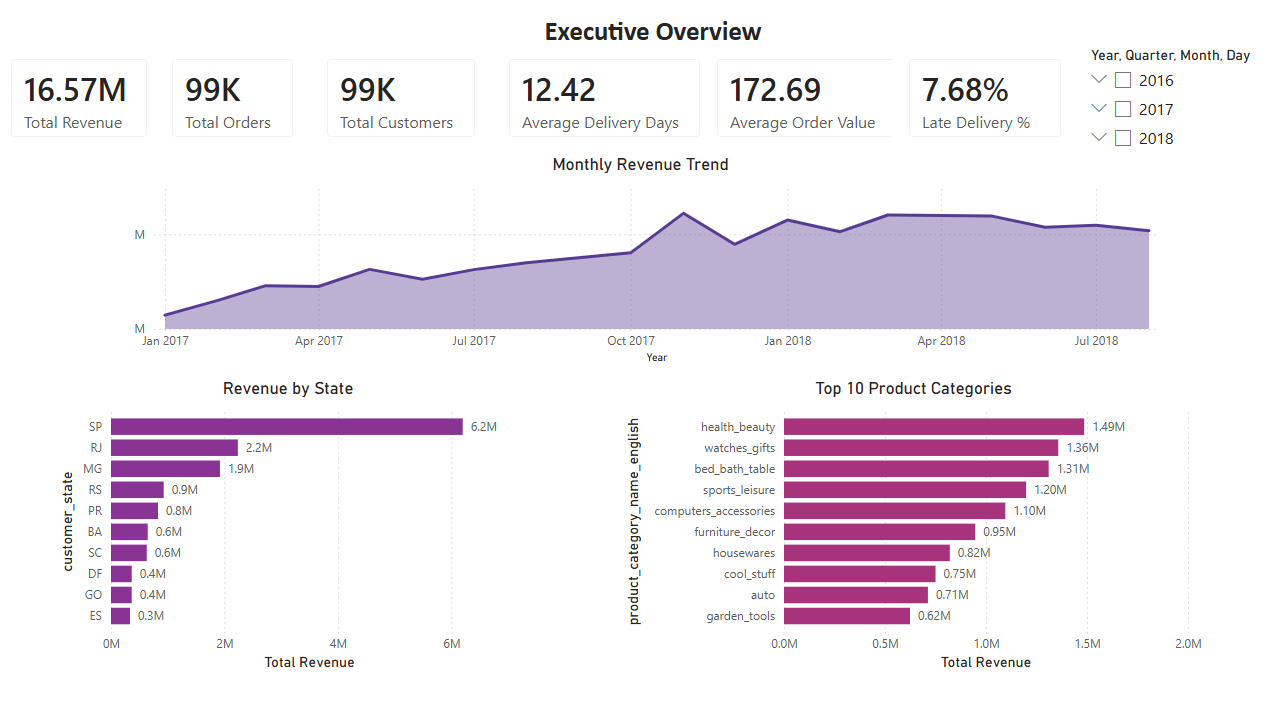

What the dashboard file says about the page in this screenshot:
{"tool":"powerbi","page":{"name":"Executive Overview","canvas":[1280,720],"ordinal":0},"visuals":[{"type":"cardVisual","fields":{"Data":["gold_sales_fact.Total Revenue"]},"box":[0,43.8,170.2,111.9],"z":0},{"type":"cardVisual","fields":{"Data":["gold_sales_fact.Total Orders"]},"box":[161.5,43.8,154.7,111.9],"z":1000},{"type":"cardVisual","fields":{"Data":["gold_sales_fact.Total Customers"]},"box":[316.1,43.8,181.9,111.9],"z":2000},{"type":"slicer","fields":{"Values":["gold_sales_fact.order_purchase_date.Variation.Date Hierarchy.Year","gold_sales_fact.order_purchase_date.Variation.Date Hierarchy.Quarter","gold_sales_fact.order_purchase_date.Variation.Date Hierarchy.Month","gold_sales_fact.order_purchase_date.Variation.Date Hierarchy.Day"]},"box":[1083.5,43.8,196.5,121.6],"z":3000},{"type":"cardVisual","fields":{"Data":["gold_sales_fact.Average Delivery Days"]},"box":[498,43.8,224.7,111.9],"z":4000},{"type":"cardVisual","fields":{"Data":["gold_sales_fact.Average Order Value"]},"box":[706.1,43.8,214,111.9],"z":5000},{"type":"cardVisual","fields":{"Data":["gold_sales_fact.Late Delivery %"]},"box":[897.8,43.8,185.8,111.9],"z":6000},{"type":"lineChart","title":"Monthly Revenue Trend","fields":{"Category":["gold_date_dim.full_date.Variation.Date Hierarchy.Year","gold_date_dim.full_date.Variation.Date Hierarchy.Month","gold_date_dim.full_date.Variation.Date Hierarchy.Day"],"Y":["gold_sales_fact.Total Revenue"]},"box":[111,156,1071,214],"z":7000},{"type":"clusteredBarChart","title":"Revenue by State","fields":{"Category":["gold_customer_dim.customer_state"],"Y":["gold_sales_fact.Total Revenue"]},"box":[60.3,380.3,467.8,296.7],"z":8000},{"type":"clusteredBarChart","title":"Top 10 Product Categories","fields":{"Category":["gold_product_dim.product_category_name_english"],"Y":["gold_sales_fact.Total Revenue"]},"box":[626.4,380.3,586.5,296.7],"z":9000},{"type":"textbox","box":[0,155.7,140,214.3],"z":10000},{"type":"textbox","box":[446,12,426,45],"z":11000}]}

Visuals, with their boxes in screenshot pixels (x1, y1, x2, y2), scaled from the page's 1280x720 canvas onto the 1265x711 screenshot:
cardVisual - gold_sales_fact.Total Revenue: <region>0, 43, 168, 154</region>
cardVisual - gold_sales_fact.Total Orders: <region>160, 43, 312, 154</region>
cardVisual - gold_sales_fact.Total Customers: <region>312, 43, 492, 154</region>
slicer - gold_sales_fact.order_purchase_date.Variation.Date Hierarchy.Year x gold_sales_fact.order_purchase_date.Variation.Date Hierarchy.Quarter: <region>1071, 43, 1264, 163</region>
cardVisual - gold_sales_fact.Average Delivery Days: <region>492, 43, 714, 154</region>
cardVisual - gold_sales_fact.Average Order Value: <region>698, 43, 909, 154</region>
cardVisual - gold_sales_fact.Late Delivery %: <region>887, 43, 1071, 154</region>
"Monthly Revenue Trend" lineChart: <region>110, 154, 1168, 365</region>
"Revenue by State" clusteredBarChart: <region>60, 376, 522, 669</region>
"Top 10 Product Categories" clusteredBarChart: <region>619, 376, 1199, 669</region>
textbox: <region>0, 154, 138, 365</region>
textbox: <region>441, 12, 862, 56</region>
